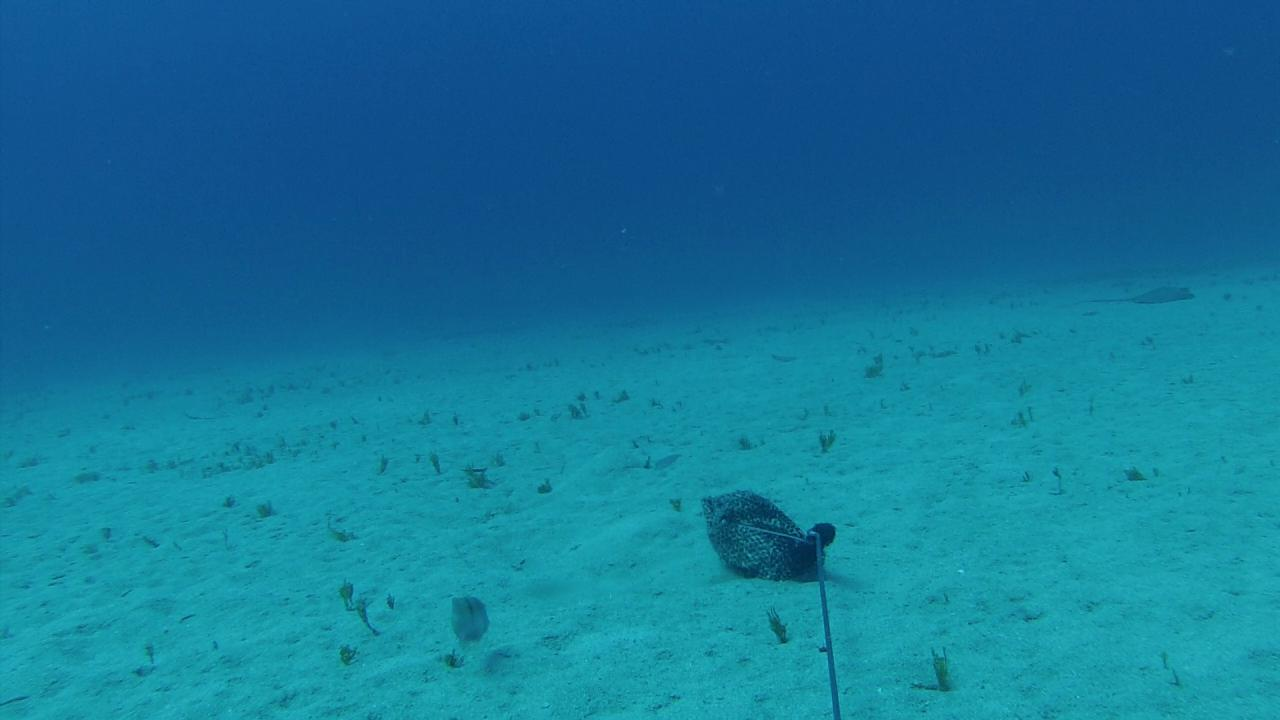dasyatis: (1080, 286, 1196, 303)
raor: (442, 592, 493, 650)
